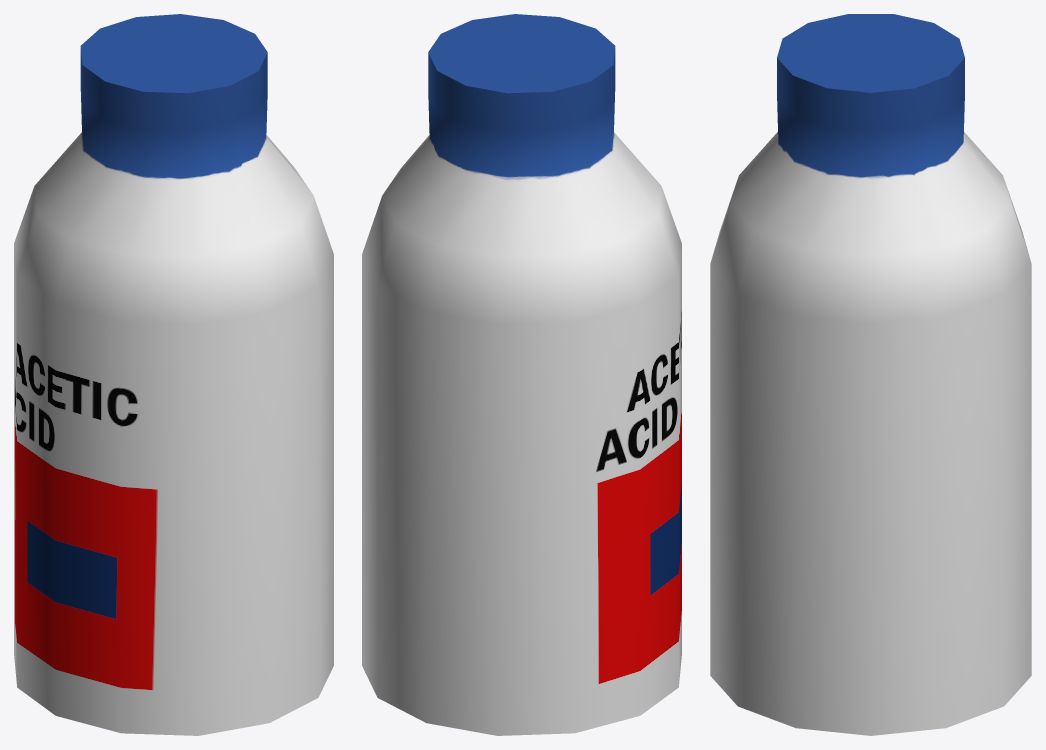
Rendered from ACETIC_ACID.fbx.
3 renders of one model, left to right at view 1: azimuth 30°, elevation 25°; view 2: azimuth 150°, elevation 25°; view 3: azimuth 270°, elevation 25°, orthographic.
Visible parts, largest first — view 1: ACETIC_ACID; view 2: ACETIC_ACID; view 3: ACETIC_ACID.
Part boxes in pixels (x1,y1,x2,y2): ACETIC_ACID: (14,14,333,735); ACETIC_ACID: (362,14,681,735); ACETIC_ACID: (710,14,1031,735).
Size of the model in its own units: 6.73 by 14.33 by 6.78.
Materials: 1 (1 with a texture image).
